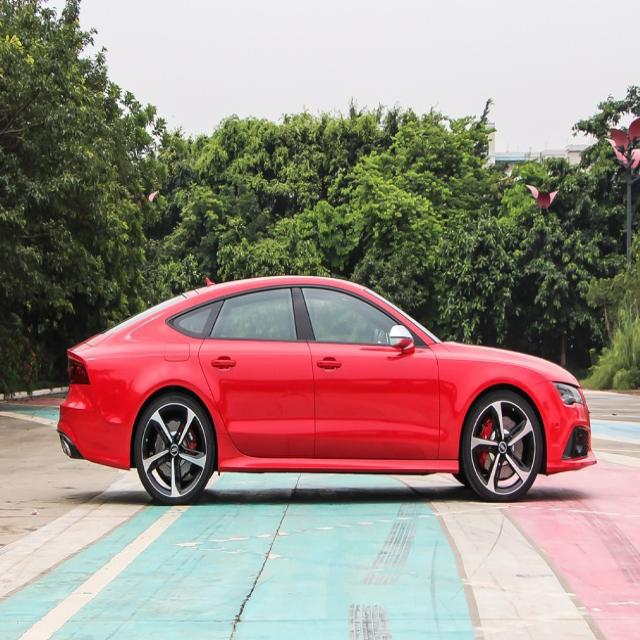back_right_side_light: (62, 348, 92, 390)
door: (199, 291, 317, 467)
front_bumper: (527, 381, 597, 474)
front_right_side_door: (298, 282, 441, 464)
front_right_side_light: (551, 380, 583, 407)
front_right_side_mirror: (388, 323, 413, 354)
rear_bumper: (58, 384, 132, 472)
wheel: (135, 393, 215, 505), (464, 390, 540, 500)
